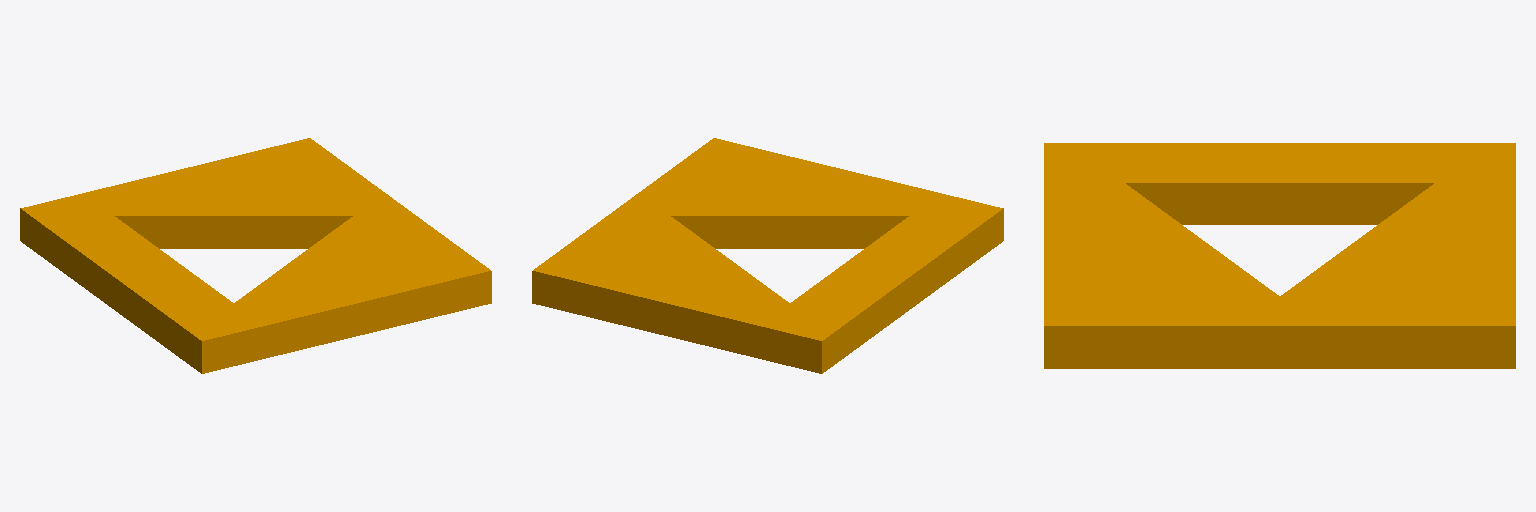
robot.urdf — red_triangle_hole:
<?xml version="1.0"?>
<robot name="red_triangle_hole">
    <link name="red_triangle_hole">
        <visual>
            <!--origin xyz="0 0 0.01905" rpy="0 1.57079632679 0"-->
            <geometry>
                <mesh filename="../mesh/factory_insertion/red_triangle_hole.obj"/>
            </geometry>
        </visual>
        <collision>
            <!--origin xyz="0 0 0.01905" rpy="0 1.57079632679 0"-->
            <geometry>
                <mesh filename="../mesh/factory_insertion/red_triangle_hole.obj"/>
            </geometry>
            <sdf resolution="256" />
        </collision>
    </link>
</robot>

--- What the picture shows (computed from the rendered views, not written in the file) ---
The picture shows the robot from 3 angles, left to right: view 1: azimuth 30°, elevation 25°; view 2: azimuth 150°, elevation 25°; view 3: azimuth 270°, elevation 25°; orthographic projection.
Robot: red_triangle_hole — 1 links, 0 joints (none); root link red_triangle_hole; default pose: every joint at zero.
Links seen in each view (by area): view 1: red_triangle_hole; view 2: red_triangle_hole; view 3: red_triangle_hole.
Boxes of the visible links, x1,y1,x2,y2 form: red_triangle_hole: (20, 138, 491, 373); red_triangle_hole: (532, 138, 1003, 373); red_triangle_hole: (1044, 143, 1515, 368).
Bounding box of the posed robot: 0.0922 × 0.1 × 0.01 m (x, y, z).
1 mesh visuals loaded from 1 distinct referenced files (1 OBJ).
